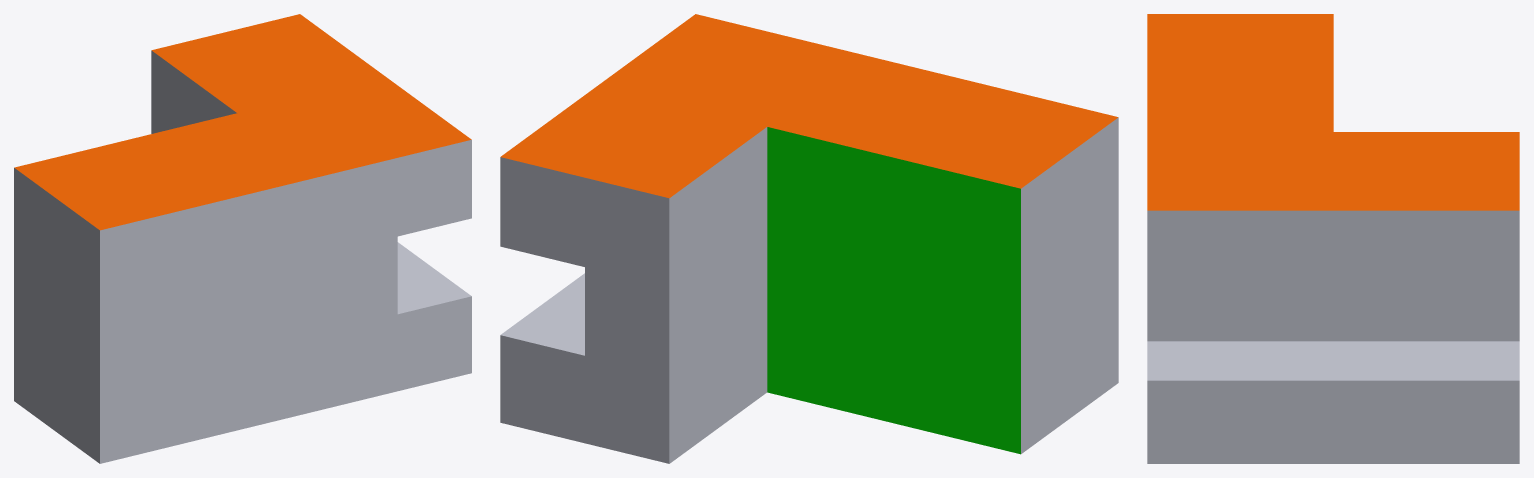
The model's file is top-behind.gltf.
3 views of the same model, side by side, from view 1: azimuth 30°, elevation 25°; view 2: azimuth 150°, elevation 25°; view 3: azimuth 270°, elevation 25° (orthographic). The views are drawn at different scales.
Visible parts, largest first — view 1: 3DGeom-14, 3DGeom-13; view 2: 3DGeom-14, 3DGeom-15, 3DGeom-13; view 3: 3DGeom-14, 3DGeom-13.
Part boxes in pixels (x1,y1,x2,y2): 3DGeom-14: (14,50,471,463); 3DGeom-13: (14,14,471,230); 3DGeom-14: (500,117,1118,463); 3DGeom-15: (767,127,1020,454); 3DGeom-13: (501,14,1118,198); 3DGeom-14: (1147,210,1519,463); 3DGeom-13: (1147,14,1519,210).
Size of the model in its own units: 0.5 by 0.3 by 0.4.
